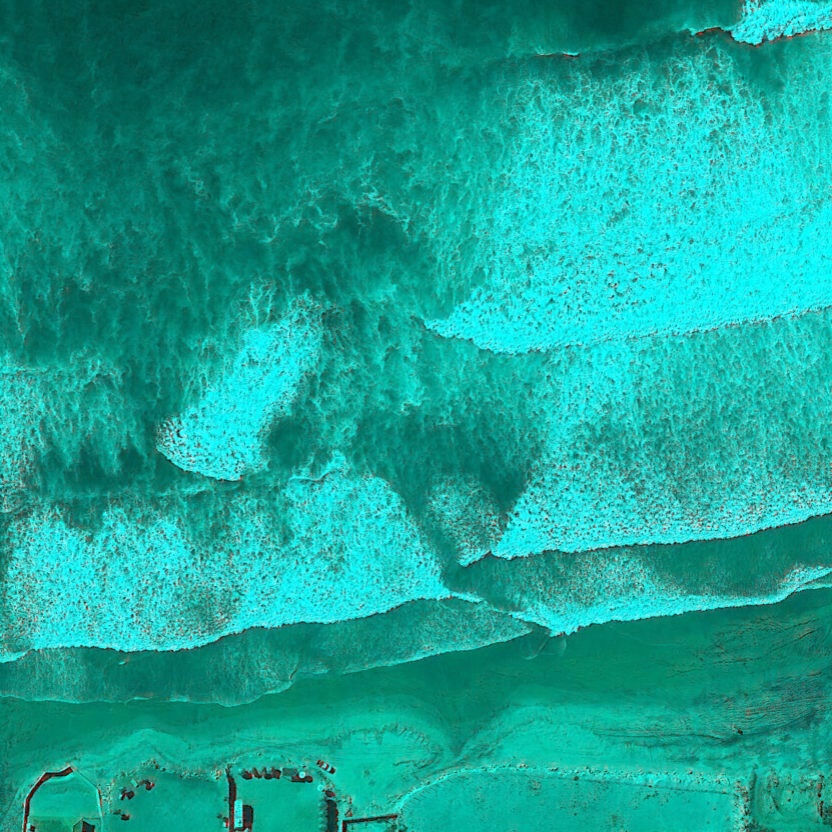rip_current: (326, 294, 556, 590)
